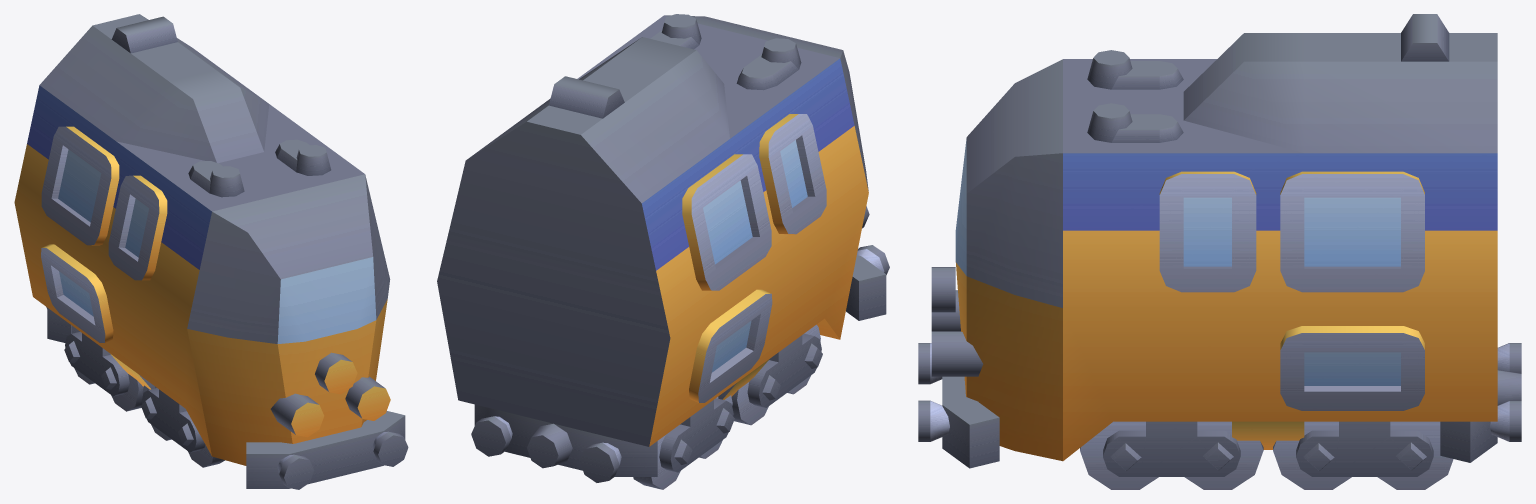
The model's file is train-electric-double-a.glb.
3 views of the same model, side by side, from view 1: azimuth 30°, elevation 25°; view 2: azimuth 150°, elevation 25°; view 3: azimuth 270°, elevation 25° (orthographic). The views are drawn at different scales.
Visible parts, largest first — view 1: train-electric-double-a, wheels-back, wheels-front; view 2: train-electric-double-a, wheels-front, wheels-back; view 3: train-electric-double-a, wheels-front, wheels-back.
Part boxes in pixels (x1,y1,x2,y2): train-electric-double-a: (14, 14, 408, 489); wheels-back: (64, 326, 143, 411); wheels-front: (141, 385, 224, 467); train-electric-double-a: (437, 14, 889, 482); wheels-front: (731, 324, 822, 425); wheels-back: (633, 395, 734, 489); train-electric-double-a: (918, 14, 1521, 468); wheels-front: (1080, 421, 1263, 489); wheels-back: (1273, 421, 1453, 489).
Bounding box in the file's own units: 1.28 × 1.92 × 2.5.
1 material, 1 textured.
